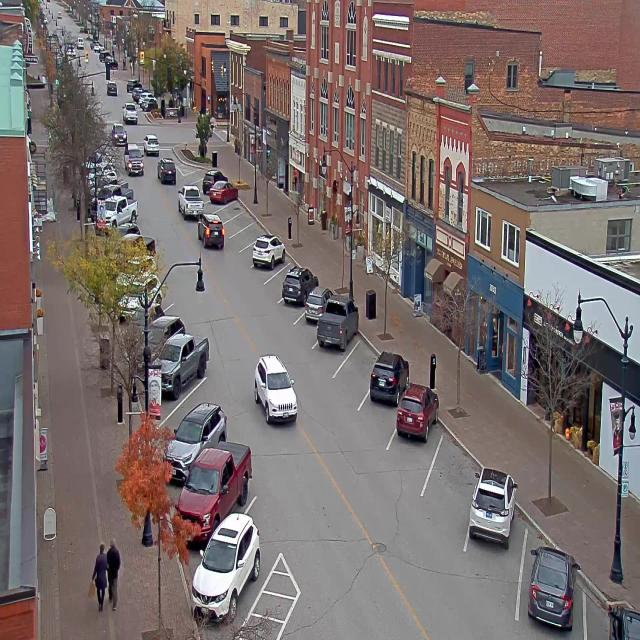available: (164, 356, 230, 420), (430, 428, 482, 509), (343, 332, 379, 387), (269, 259, 291, 294), (227, 228, 256, 249), (236, 241, 256, 268), (224, 212, 251, 231), (218, 201, 245, 219), (182, 169, 208, 183), (188, 179, 204, 194)
occupied: (191, 510, 261, 624), (184, 428, 253, 530), (163, 400, 227, 484), (527, 545, 579, 631), (468, 466, 517, 547), (152, 331, 209, 398), (393, 383, 434, 449), (589, 588, 639, 640), (316, 296, 358, 352), (369, 349, 409, 405), (282, 264, 318, 305), (302, 282, 332, 328), (252, 232, 285, 269), (209, 179, 237, 204), (201, 170, 219, 192)
